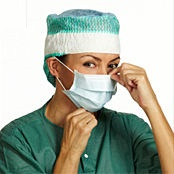face_mask: (61, 33, 119, 108)
